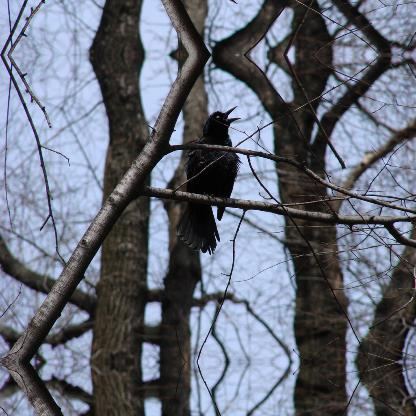Bird: (167, 113, 247, 246)
